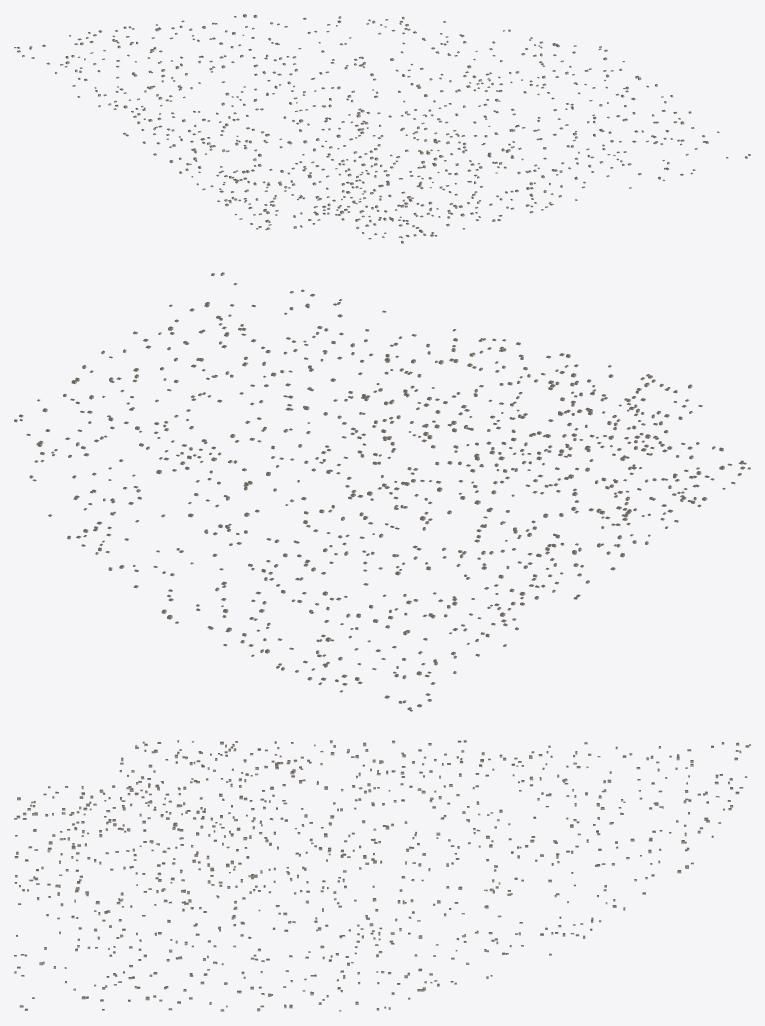
The model's file is SM_RiyadhNights_Far_City_4.fbx.
The picture shows the model from 3 angles, top to bottom: view 1: azimuth 30°, elevation 25°; view 2: azimuth 150°, elevation 25°; view 3: azimuth 270°, elevation 25°; orthographic projection. The views are drawn at different scales.
Visible parts, largest first — view 1: SM_RiyadhNights_Far_City_4; view 2: SM_RiyadhNights_Far_City_4; view 3: SM_RiyadhNights_Far_City_4.
Part boxes in pixels (left/top/right/bottom): SM_RiyadhNights_Far_City_4: left=14, top=14, right=750, bottom=243; SM_RiyadhNights_Far_City_4: left=14, top=272, right=750, bottom=711; SM_RiyadhNights_Far_City_4: left=14, top=740, right=750, bottom=1011.
Size of the model in its own units: 652793 by 2885 by 750727.
